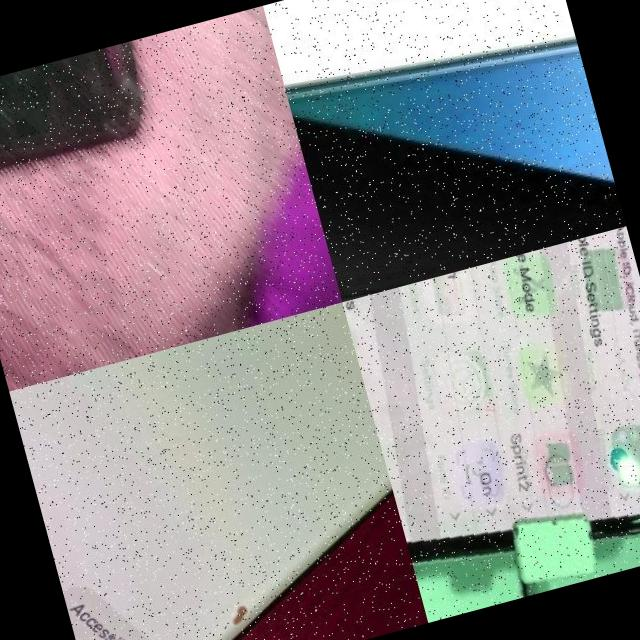dead pixel: (191, 554, 291, 640)
screen crack: (0, 38, 166, 203)
